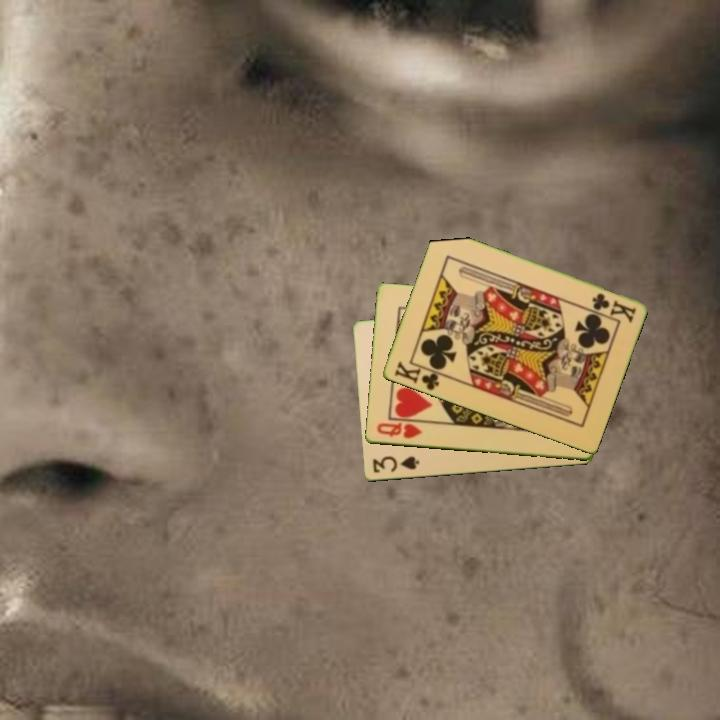3s: (369, 453, 422, 476)
Kc: (390, 357, 446, 394), (588, 289, 639, 325)
Qh: (373, 419, 424, 442)
